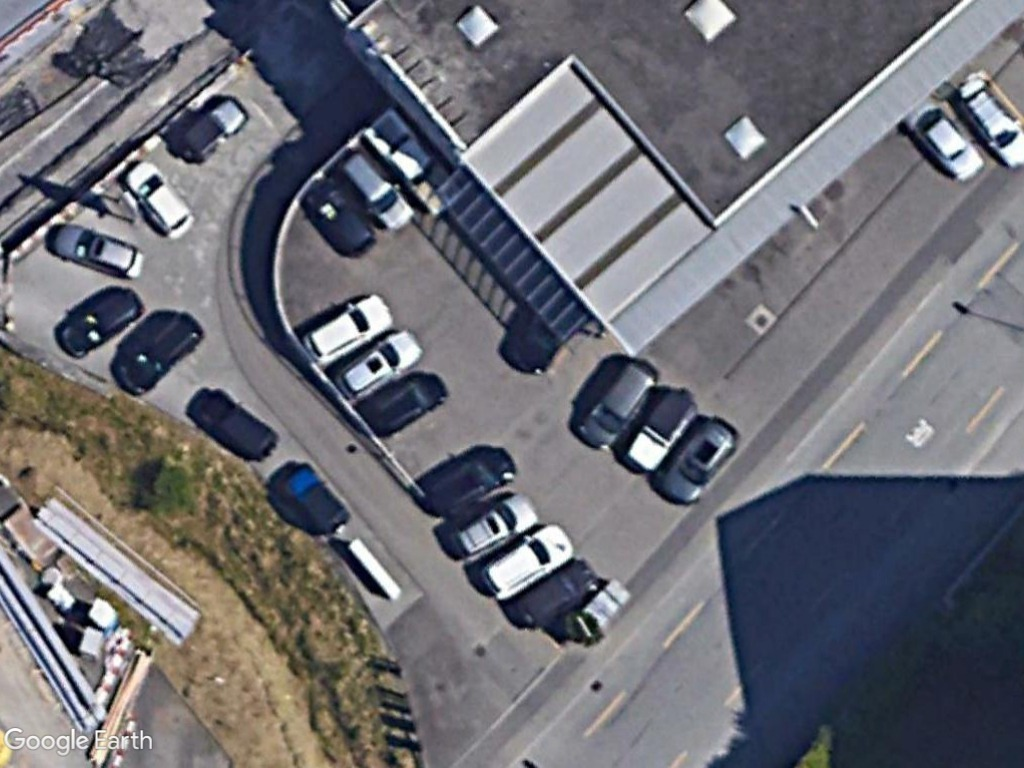car: (572, 360, 661, 451), (477, 524, 576, 602), (657, 420, 742, 506), (299, 292, 395, 367), (336, 148, 416, 234), (905, 99, 984, 185), (333, 327, 426, 399), (119, 160, 196, 242), (448, 494, 541, 560), (48, 224, 145, 282)
others: (176, 95, 247, 164)
